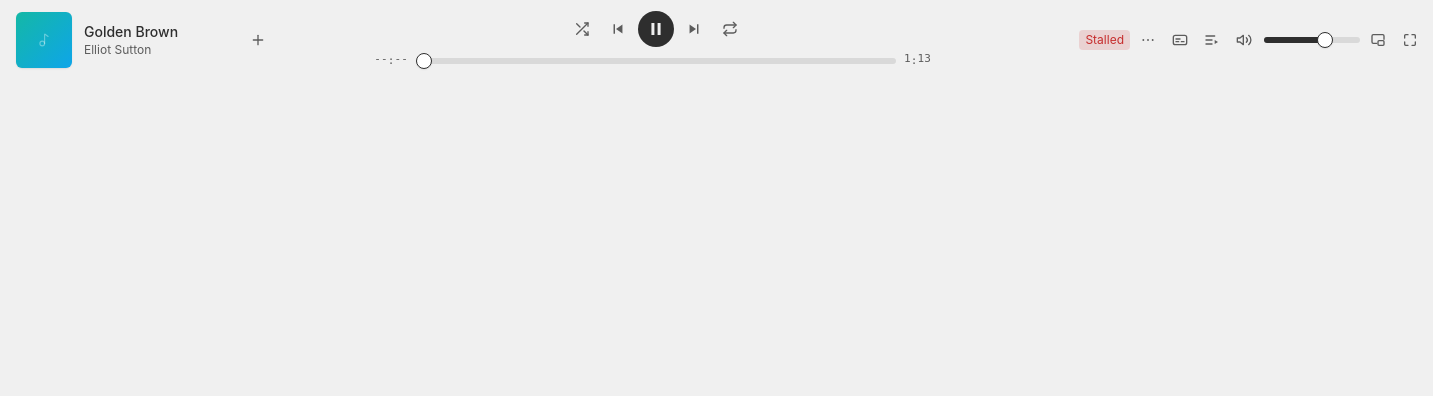
Test: the overflow menu › lists each control as a row rather than a strip of bare icons
Expected: the text "Golden Brown" is shown, [84,23,178,40]
Step 1. Click the button named "More player controls" → (1148, 40), box [1134,26,1162,54]
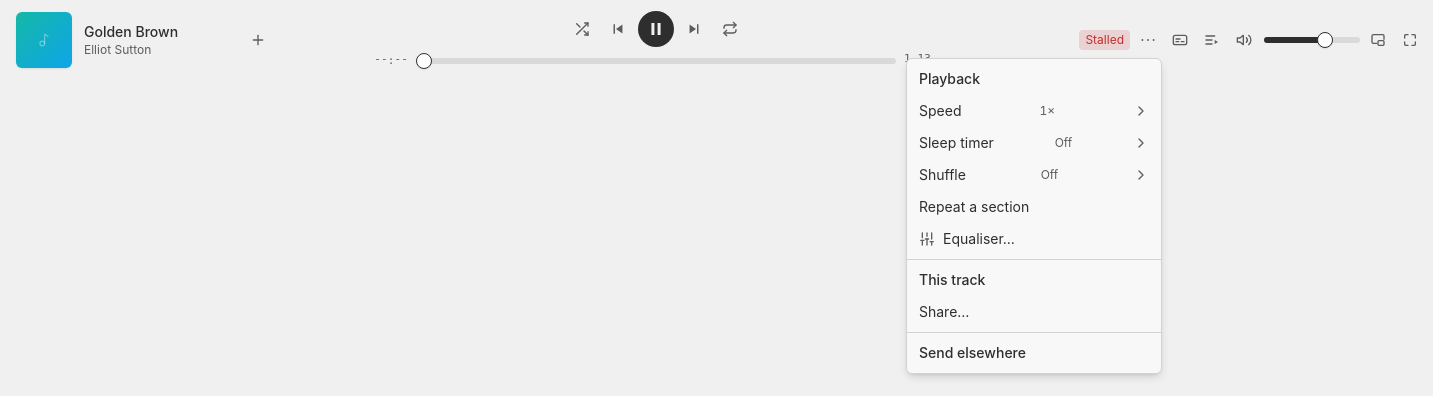
Expected: the menu item "Speed 1×" is shown, [919,102,1149,119]
Expected: the menu item "Sleep timer Off" is shown, [919,134,1149,151]
Expected: the menu item "Shuffle Off" is shown, [919,166,1149,183]
